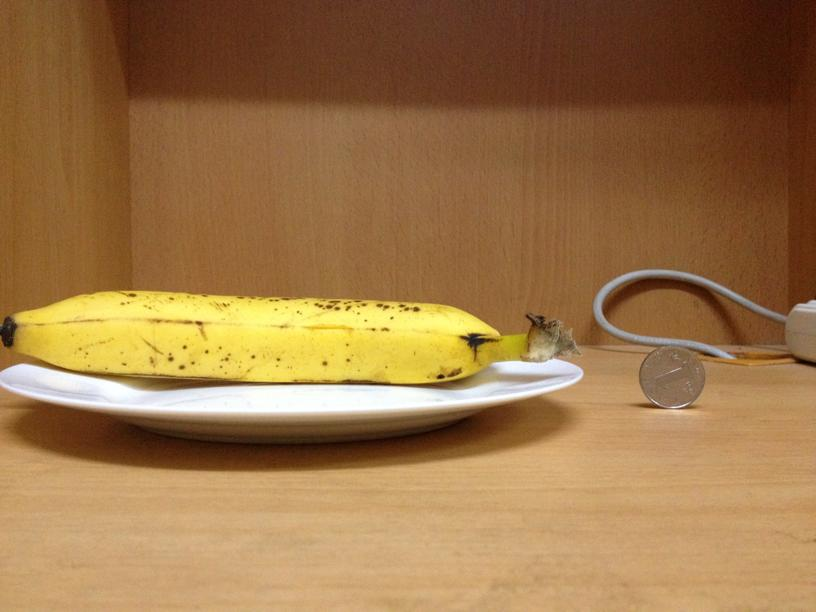banana: (11, 292, 507, 384)
coin: (635, 343, 706, 409)
